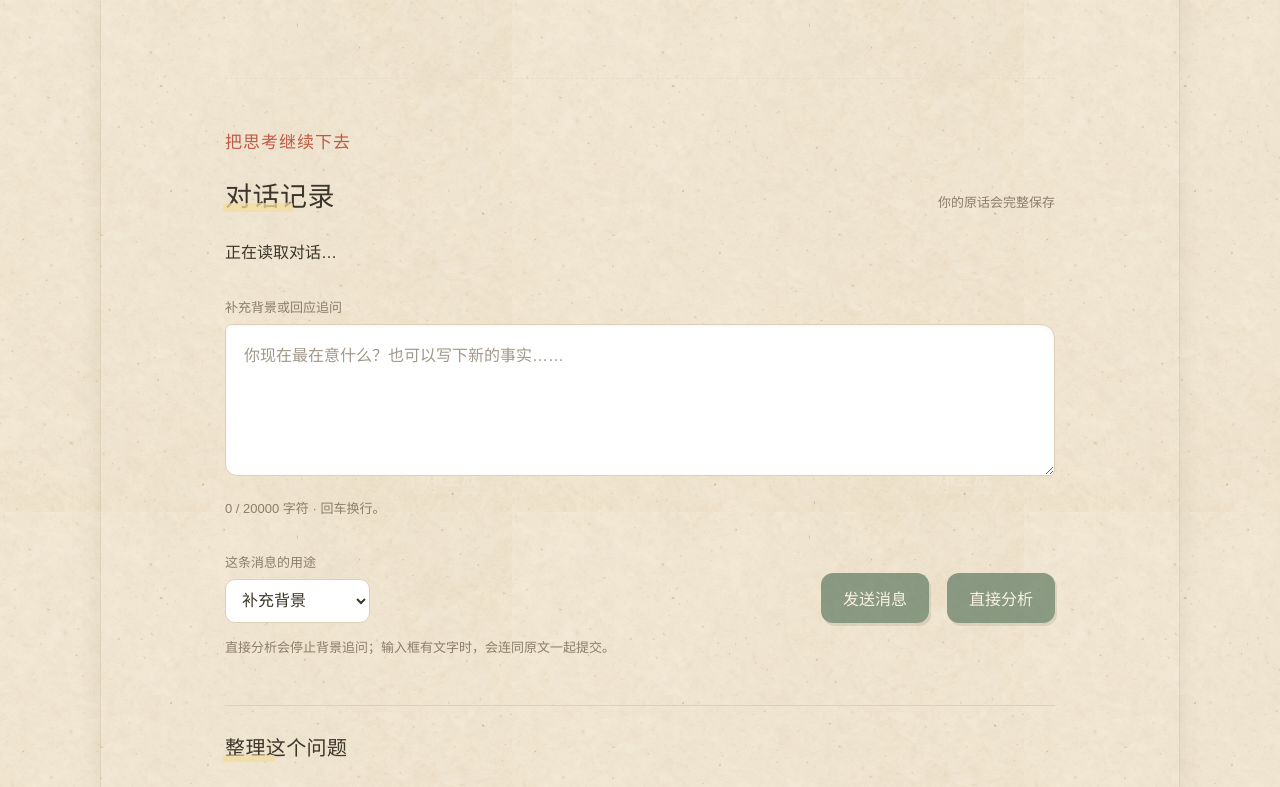
消息写入遇到401清空全部私有内容
The width and height of the screenshot is (1280, 787).
(page scrolled)
Type "私有消息草稿" into the text box labelled "补充背景或回应追问" at (640, 400), box [225,324,1055,476]
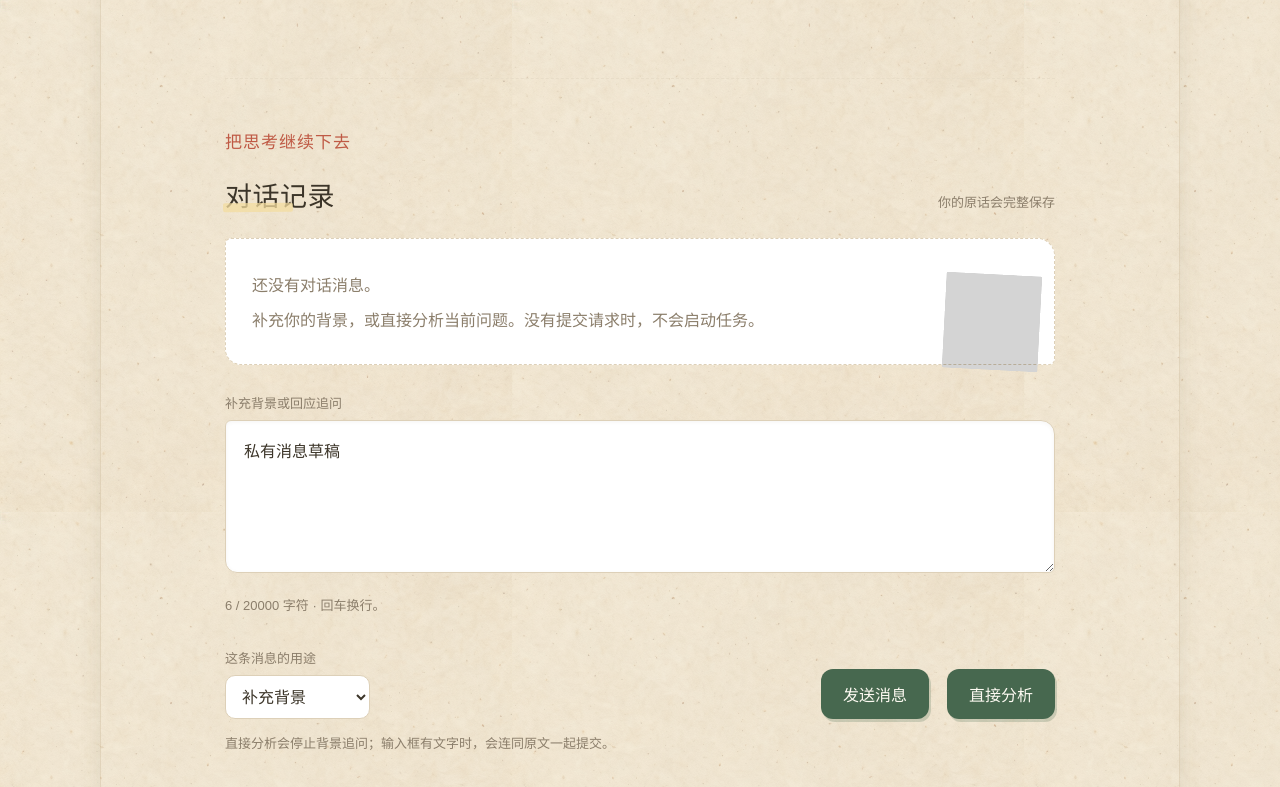
Click the button "发送消息" at (875, 694), box [821,669,929,719]
(page scrolled)
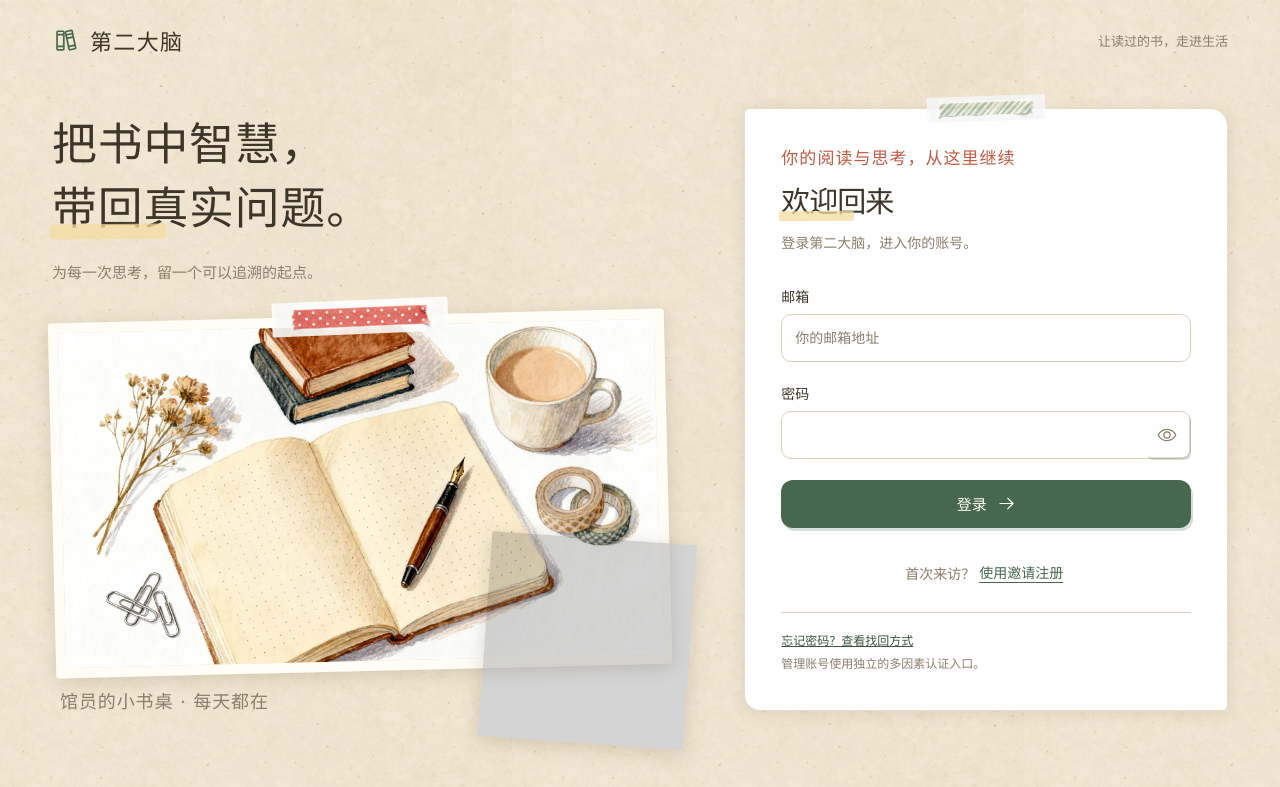
Expected: the field showing "私有消息草稿" is not shown
Result: the heading "欢迎回来" is shown at [781,186,893,218]
